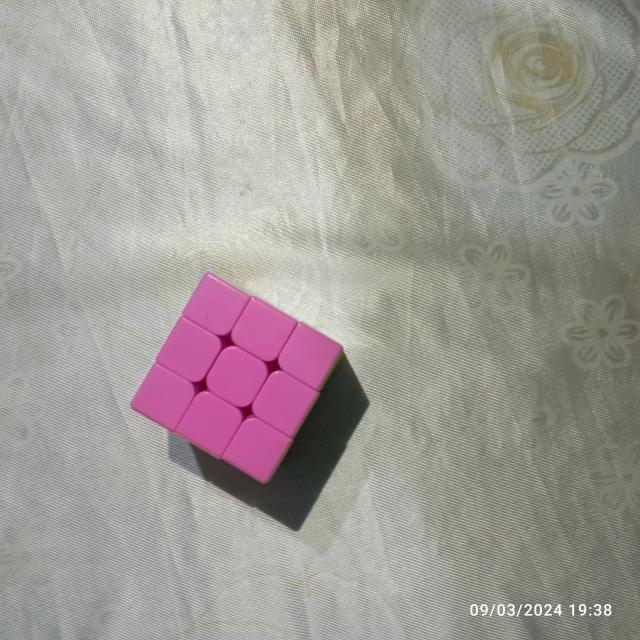Rub: (124, 264, 354, 490)
